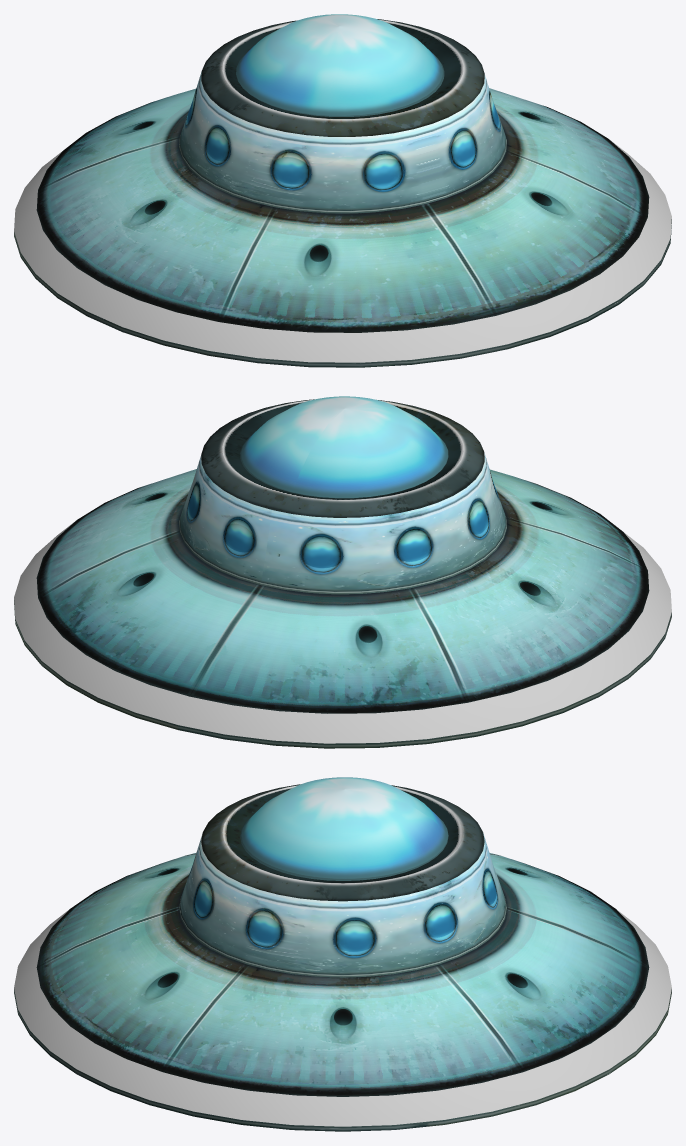
Rendered from pl_ufo.fbx.
3 renders of one model, top to bottom at view 1: azimuth 30°, elevation 25°; view 2: azimuth 150°, elevation 25°; view 3: azimuth 270°, elevation 25°, orthographic.
Parts seen in each view (by area): view 1: pl_ufo; view 2: pl_ufo; view 3: pl_ufo.
Part boxes in pixels (box(x1,y1,x2,y2)): pl_ufo: box(14, 14, 671, 367); pl_ufo: box(14, 396, 671, 748); pl_ufo: box(14, 777, 671, 1131).
Bounding box in the file's own units: 444 × 168 × 444.
